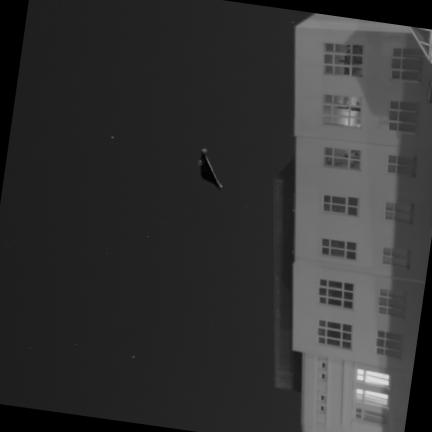Shahed: (197, 146, 222, 189)
